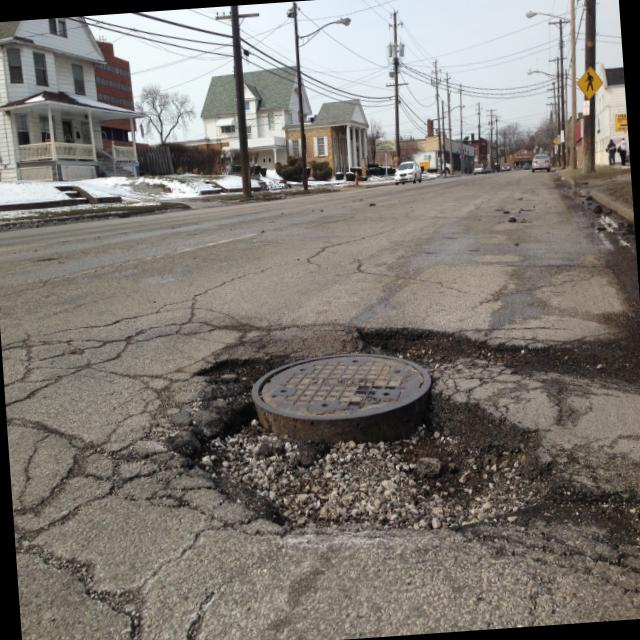Potholes: (143, 246, 640, 640)
